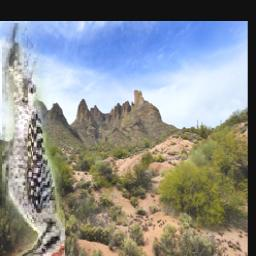Woodpecker: (3, 24, 66, 256)
